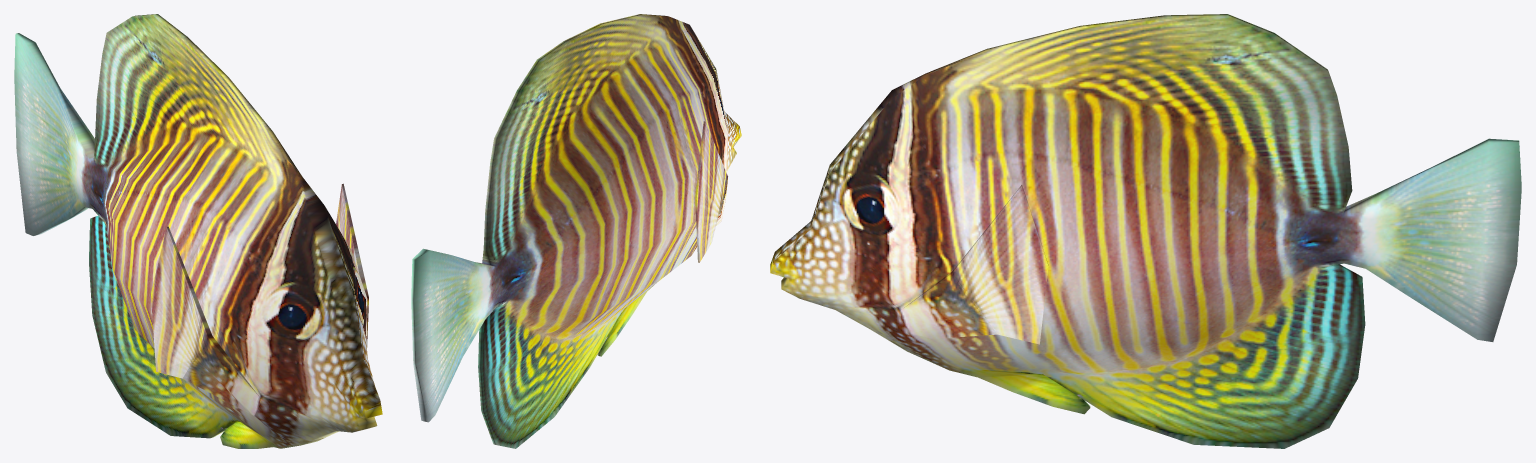
File: fish1.glb
3 renders of one model, left to right at view 1: azimuth 30°, elevation 25°; view 2: azimuth 150°, elevation 25°; view 3: azimuth 270°, elevation 25°, orthographic. The views are drawn at different scales.
Visible parts, largest first — view 1: Asset3DLoader.sceneRoot; view 2: Asset3DLoader.sceneRoot; view 3: Asset3DLoader.sceneRoot.
Part boxes in pixels (x1,y1,x2,y2): Asset3DLoader.sceneRoot: [14, 14, 382, 448]; Asset3DLoader.sceneRoot: [411, 14, 741, 448]; Asset3DLoader.sceneRoot: [770, 14, 1521, 448].
Bounding box in the file's own units: 134 × 289 × 455.
1 material, 1 textured.
